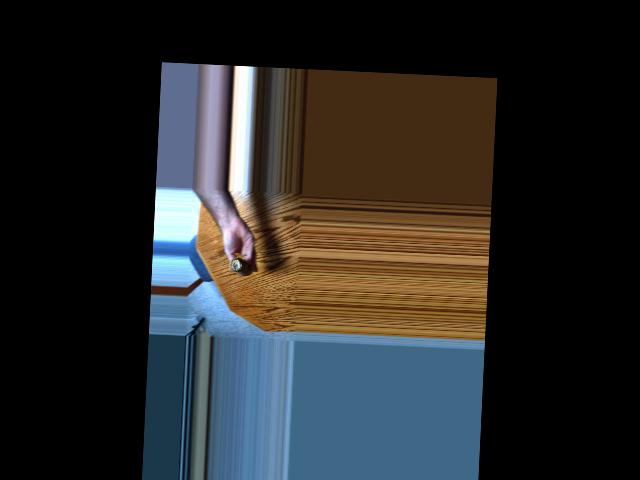sweet_potato: (225, 251, 253, 279)
